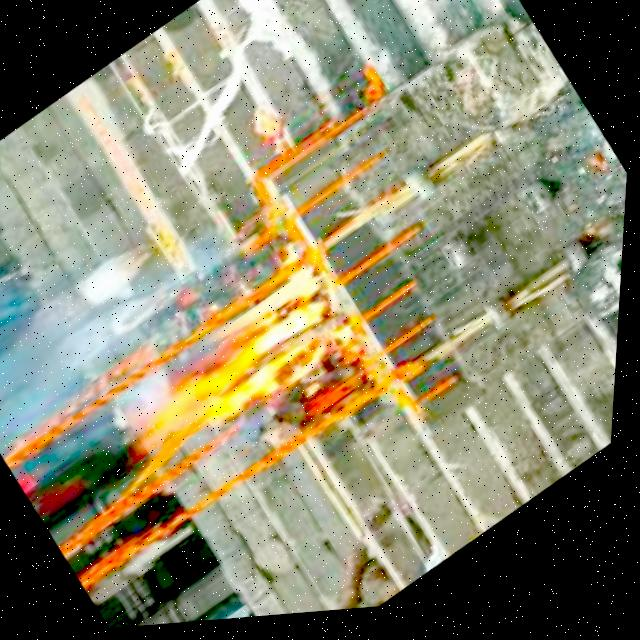Fire: (133, 259, 377, 475)
